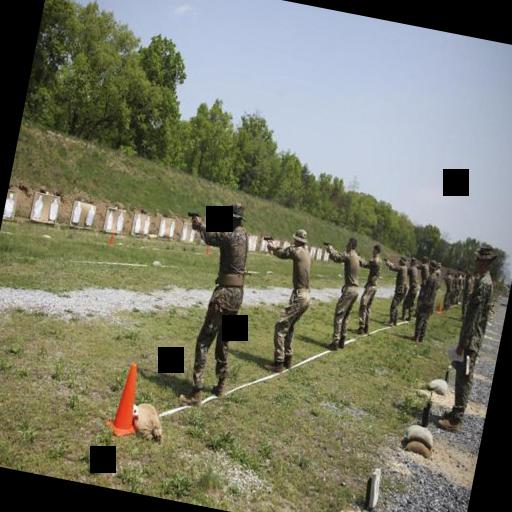Handgun: (181, 204, 202, 226), (260, 230, 274, 246), (318, 236, 330, 252)
